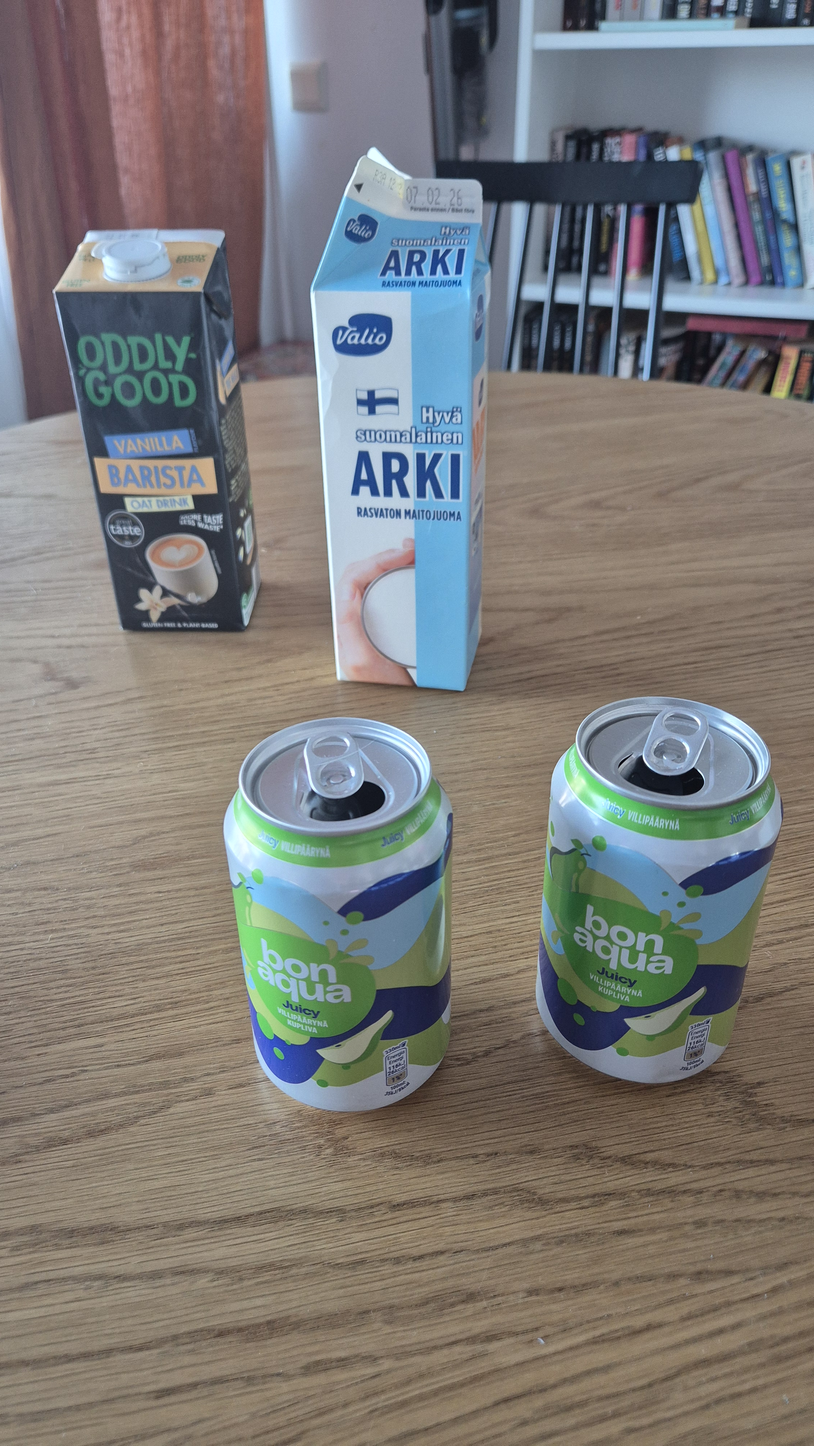Dryckeskartong: (310, 147, 492, 692), (54, 228, 262, 632)
Pantburk: (536, 696, 783, 1083), (222, 717, 453, 1112)
